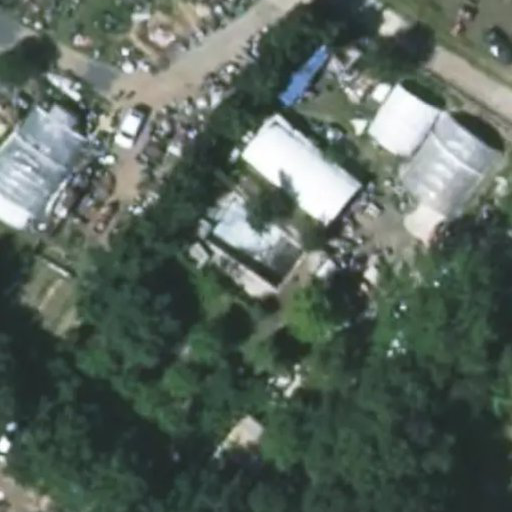pool: (191, 228, 309, 248)
